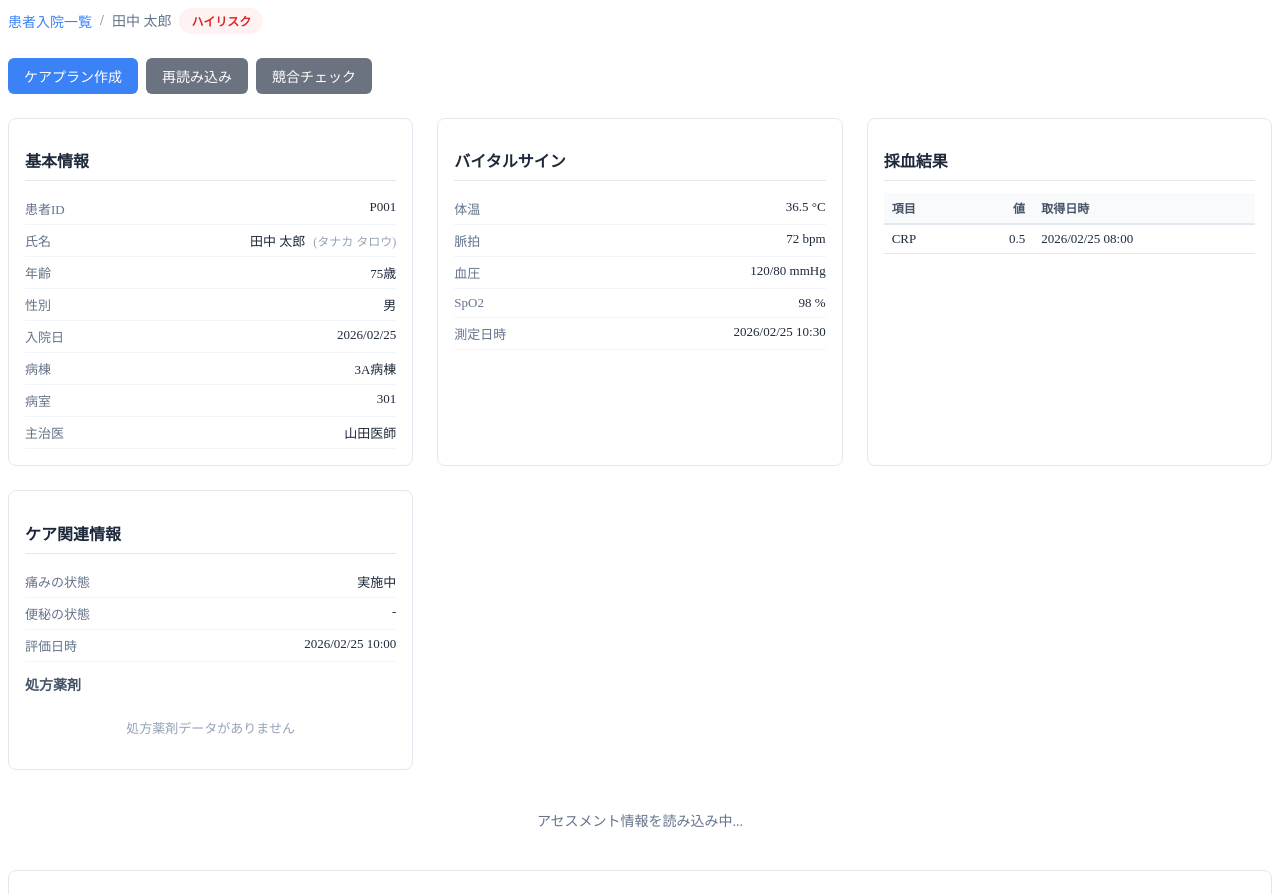
Test: AdmissionDetailViewer › 楽観的ロック › バージョン競合時に警告メッセージが表示される
What coordinates should you click on to do the following:
click the button "競合チェック"
I would click on:
 (314, 76)
Its box is [256,58,372,94].
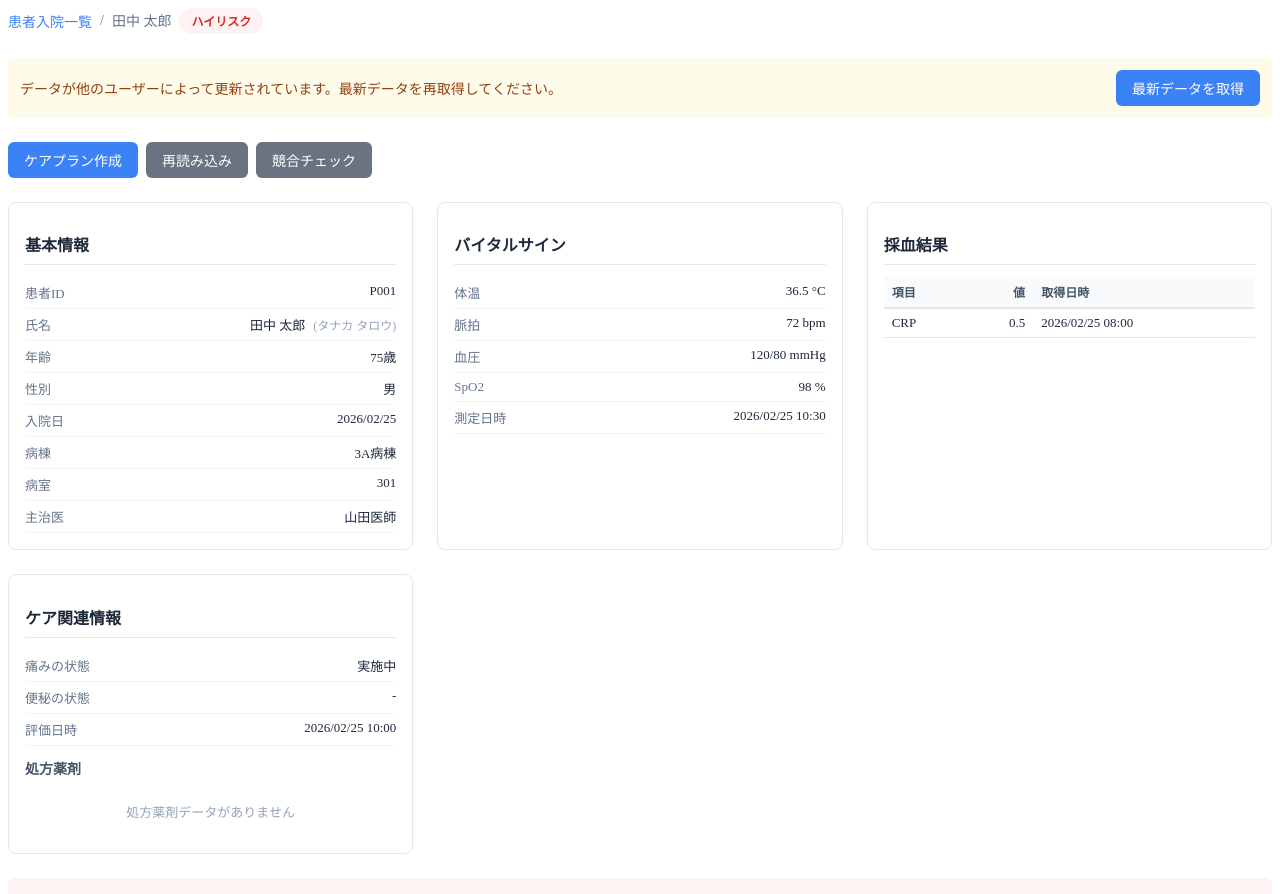
Result: the text "データが他のユーザーによって更新されています。最新データを再取得してください。" is shown at [20,78,562,98]
